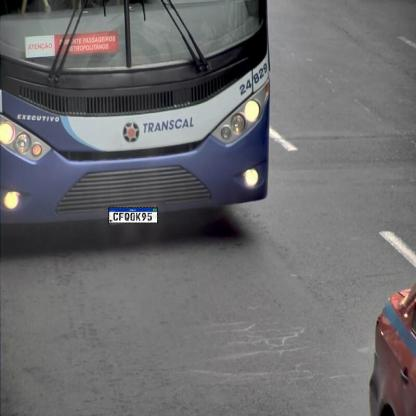PlacaM: (108, 208, 158, 224)
